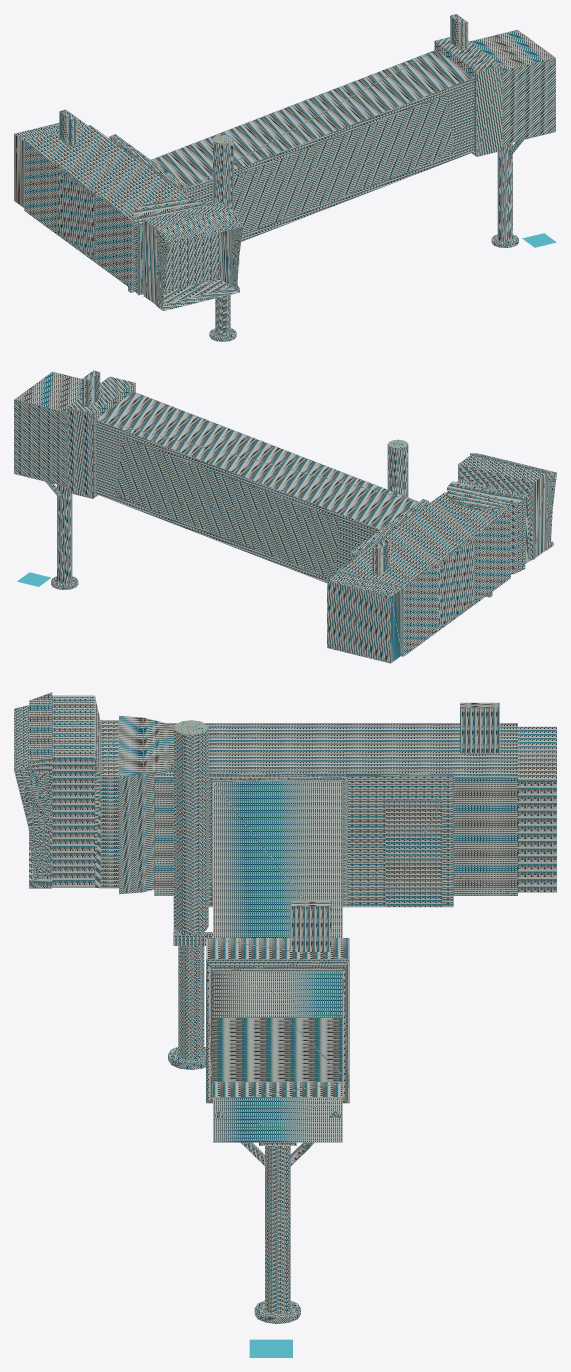
File: jetways_SKCL.gltf
The picture shows the model from 3 angles, top to bottom: view 1: azimuth 30°, elevation 25°; view 2: azimuth 150°, elevation 25°; view 3: azimuth 270°, elevation 25°; orthographic projection. The views are drawn at different scales.
Visible parts, largest first — view 1: node1; view 2: node1; view 3: node1, node2.
Boxes of the visible parts, bbox=[...] form: node1: bbox=[14, 14, 555, 341]; node1: bbox=[14, 370, 556, 663]; node1: bbox=[14, 692, 556, 1323]; node2: bbox=[249, 1339, 292, 1357].
Size of the model in its own units: 20.72 by 9.9 by 12.55.
